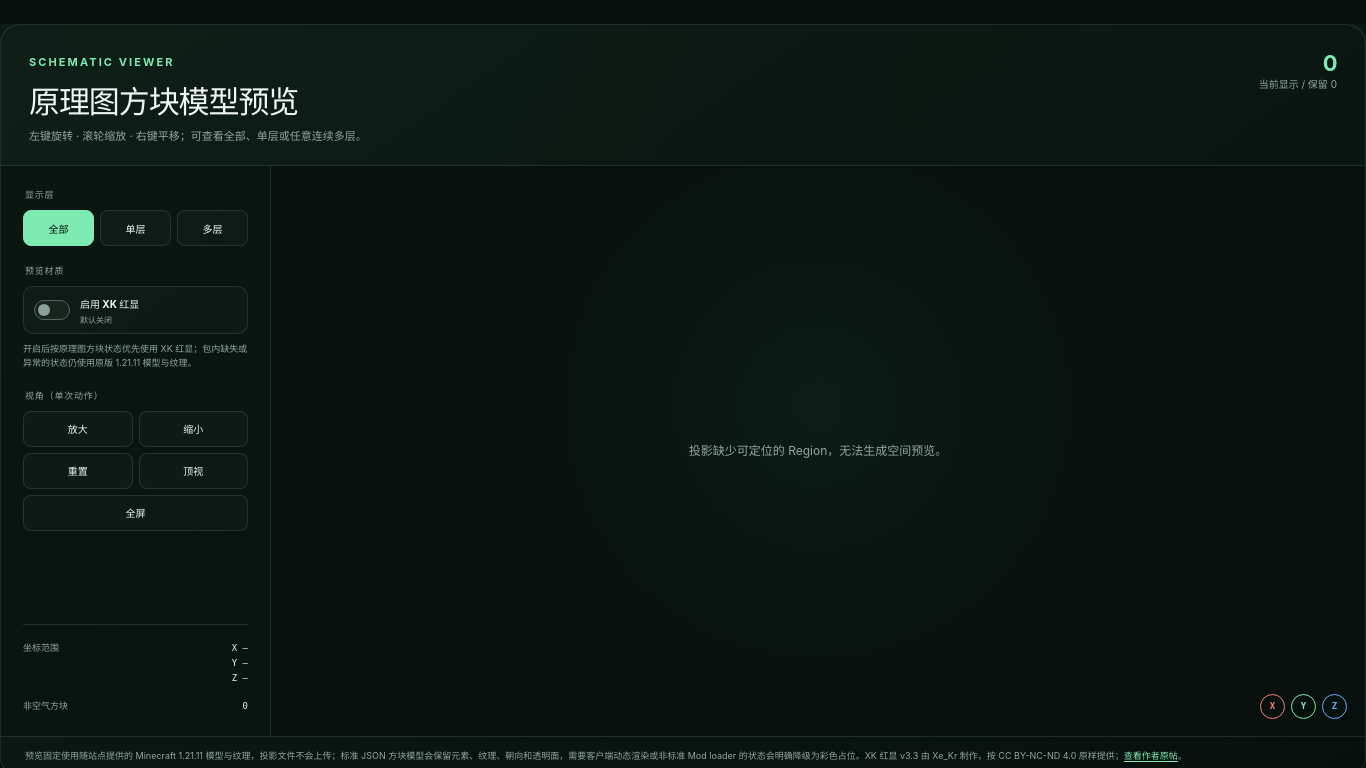
Test case: schematic preview controls › keeps layer choices selectable, the resource pack as a switch, and camera actions momentary
The image size is (1366, 768).
Expected: the text "SCHEMATIC VIEWER" is shown, [29, 55, 175, 69]
Click the switch labelled "启用 XK 红显" at (136, 310), box [23, 286, 248, 334]
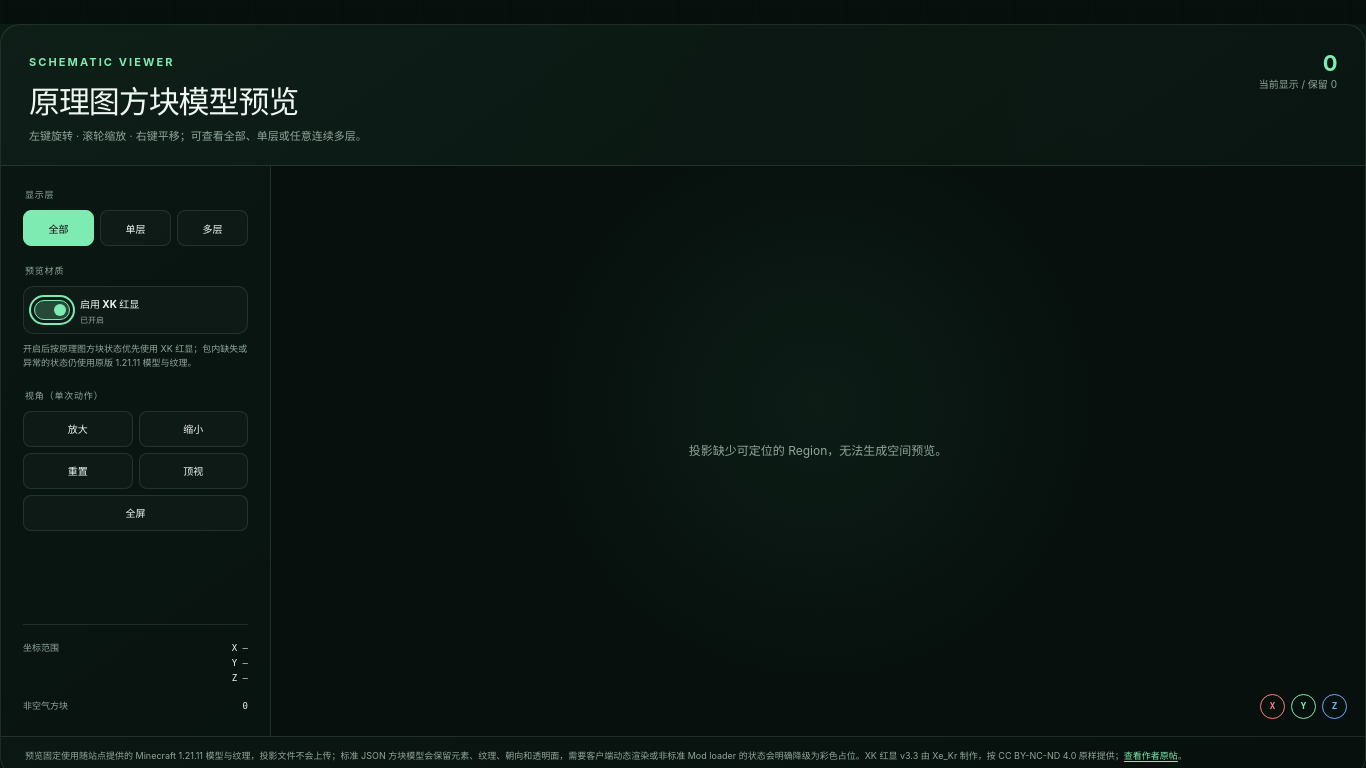
Result: the switch labelled "启用 XK 红显" is checked at [23, 286, 248, 334]
Result: the text "已开启" is shown at [80, 314, 104, 324]
